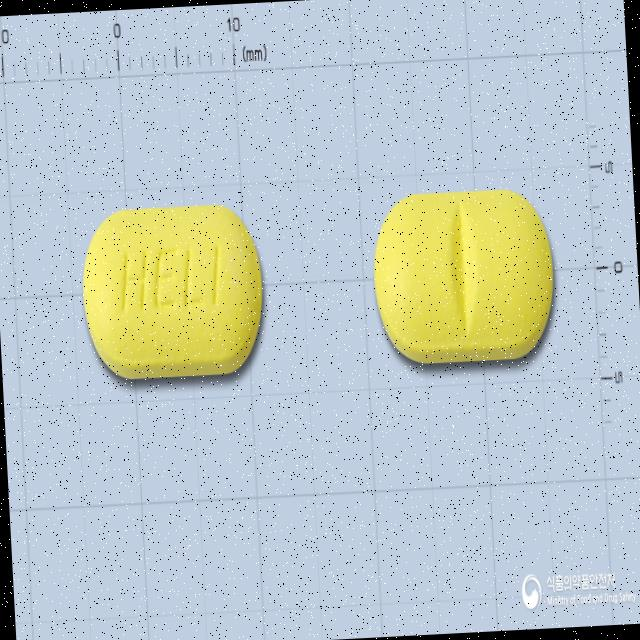Helico: (370, 185, 560, 368), (80, 202, 268, 383)
